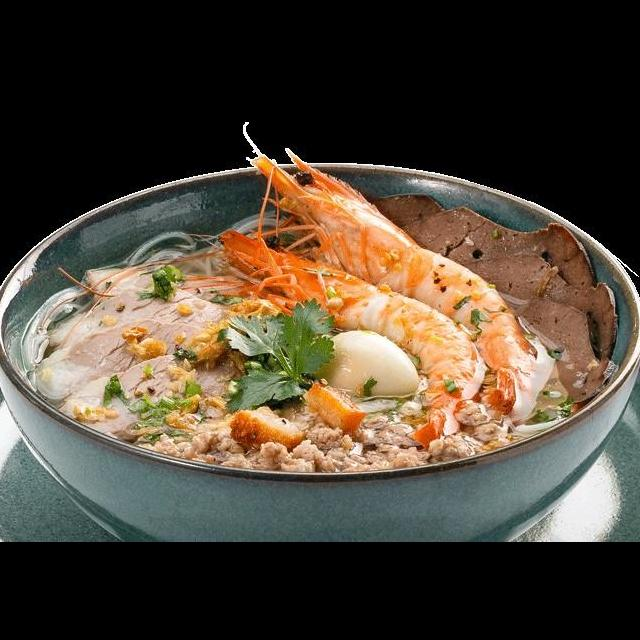gan: (395, 200, 602, 313), (450, 246, 623, 371), (507, 291, 610, 413)
thit bam: (123, 403, 519, 482)
thit heo: (29, 313, 269, 408), (53, 343, 259, 453), (48, 274, 258, 365)
tom: (237, 138, 539, 421), (202, 226, 488, 454)
trung: (309, 324, 427, 409)
